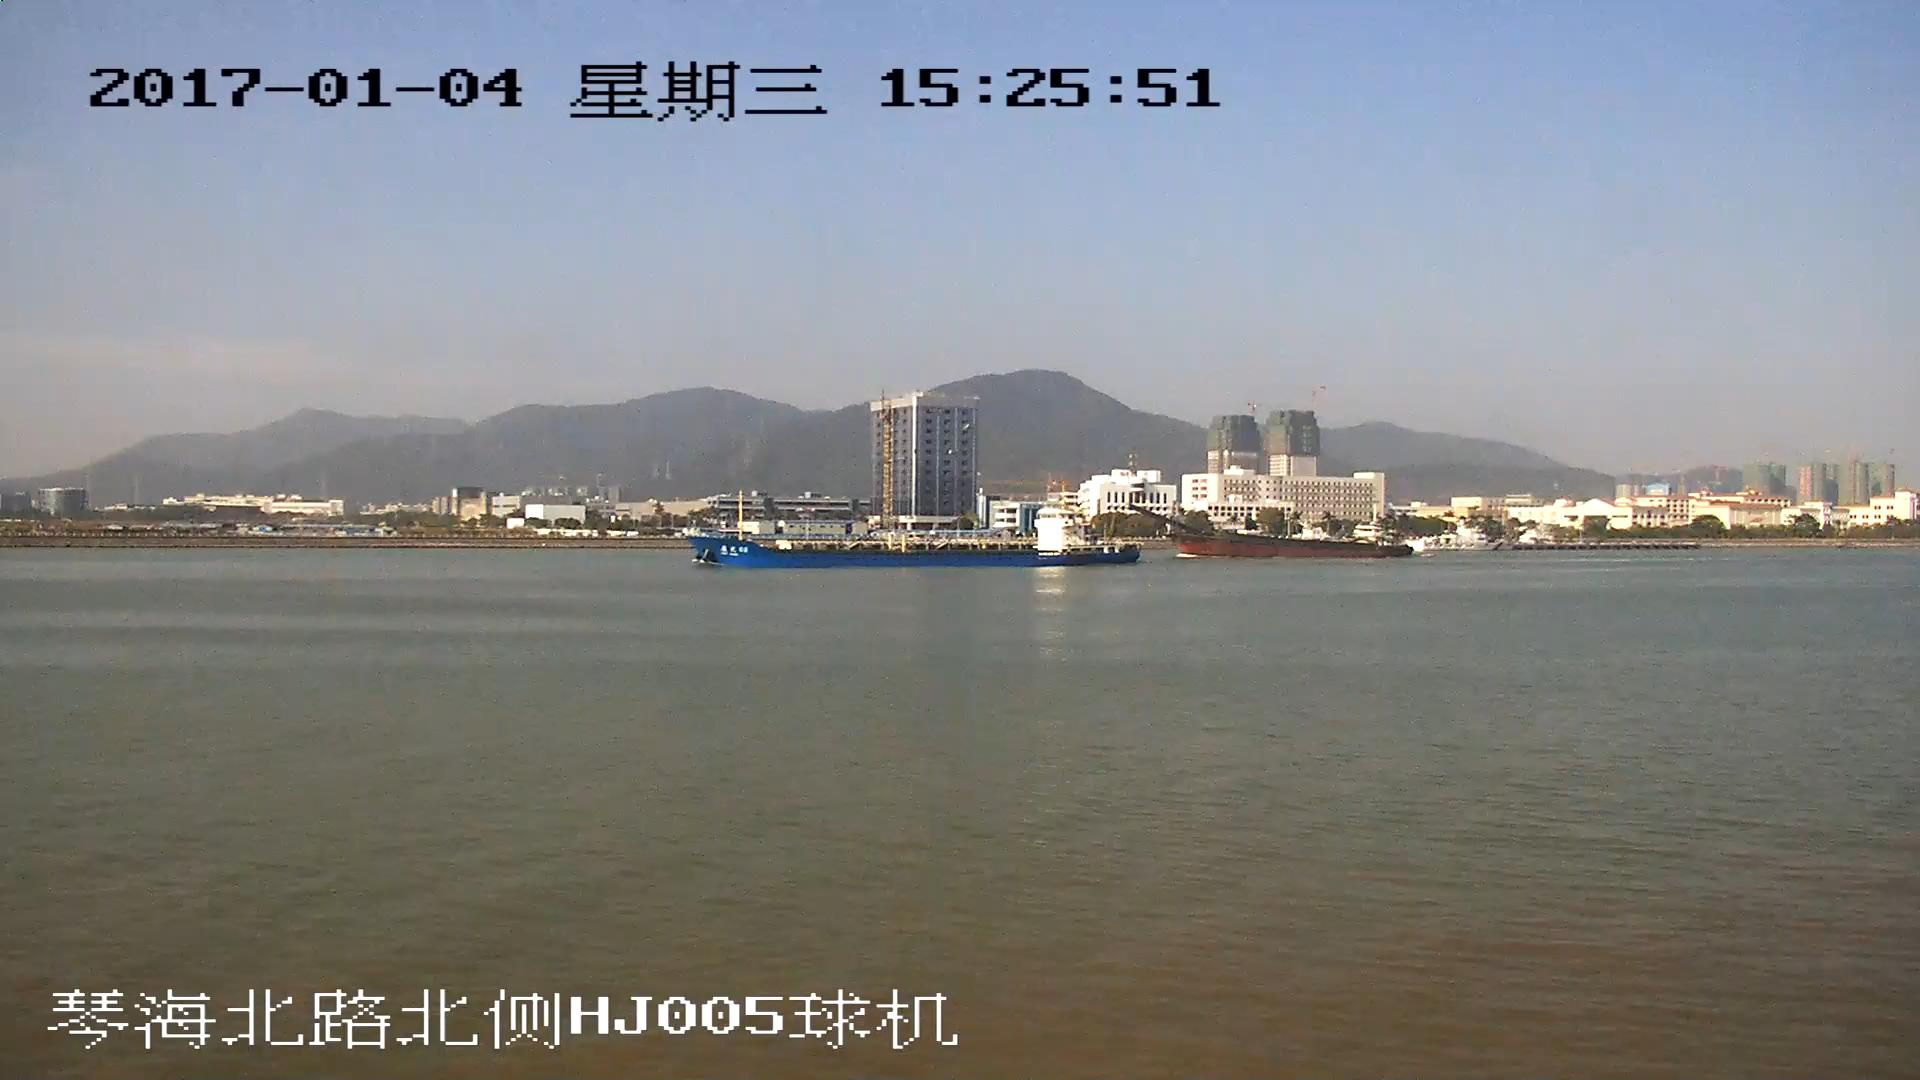bulk cargo carrier: (1138, 506, 1411, 558)
general cargo ship: (694, 488, 1128, 567)
